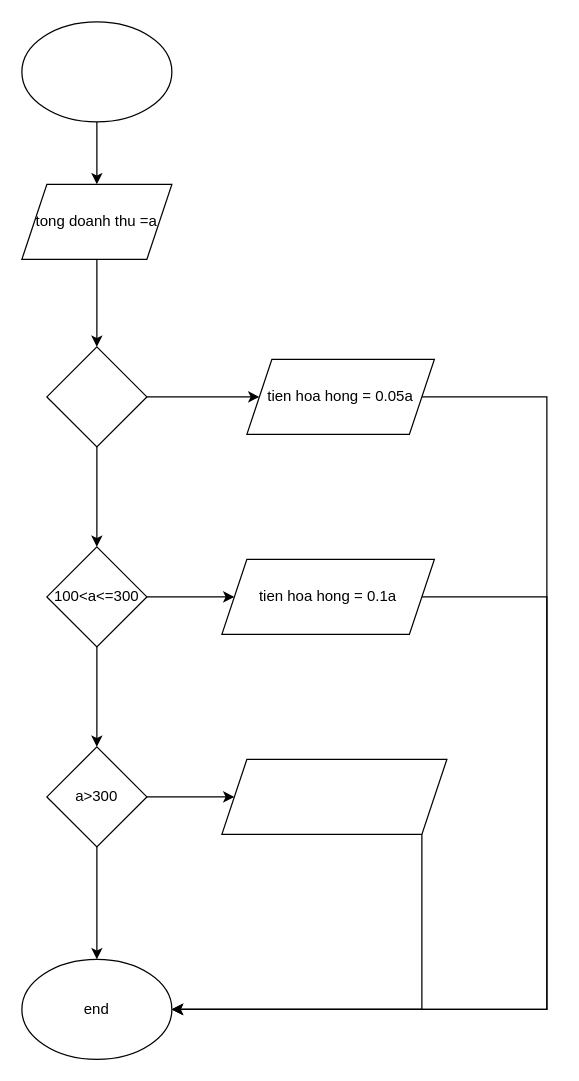
Some shapes in this 579 by 1081 pixel diagram are drawn without their labels. The centre of each missing label's shape, as x and y in pixels:
a<=100: the point at 96,396
start: the point at 96,71
tien hoa hong = 0.2a: the point at 334,796
